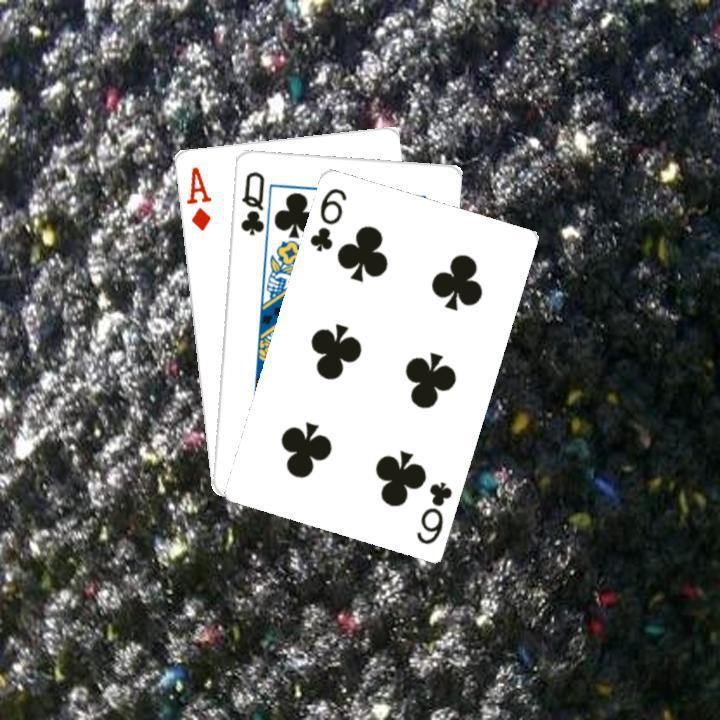6: (305, 183, 349, 253), (411, 476, 454, 546)
A: (182, 162, 213, 232)
Q: (235, 167, 266, 237)
